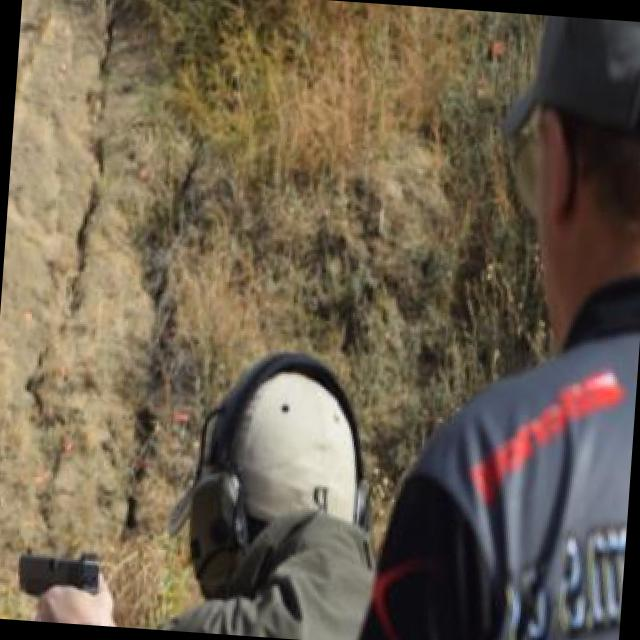Guns: (0, 522, 124, 627)
